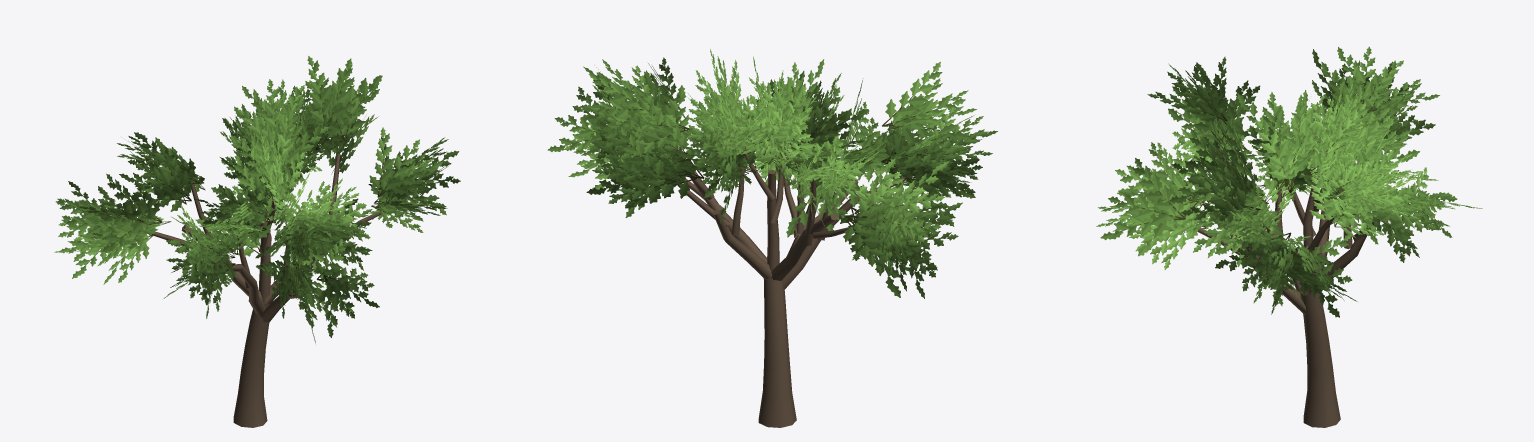
The model's file is oak_3_mid.glb.
The picture shows the model from 3 angles, left to right: view 1: azimuth 30°, elevation 25°; view 2: azimuth 150°, elevation 25°; view 3: azimuth 270°, elevation 25°; orthographic projection. The views are drawn at different scales.
Visible parts, largest first — view 1: oak_3_mid; view 2: oak_3_mid; view 3: oak_3_mid.
Boxes of the visible parts, left/top/right/bottom form: oak_3_mid: left=54, top=56, right=460, bottom=427; oak_3_mid: left=547, top=49, right=997, bottom=427; oak_3_mid: left=1096, top=46, right=1482, bottom=427.
Size of the model in its own units: 12.27 by 9.77 by 10.55.
Materials: 2 (1 with a texture image).
